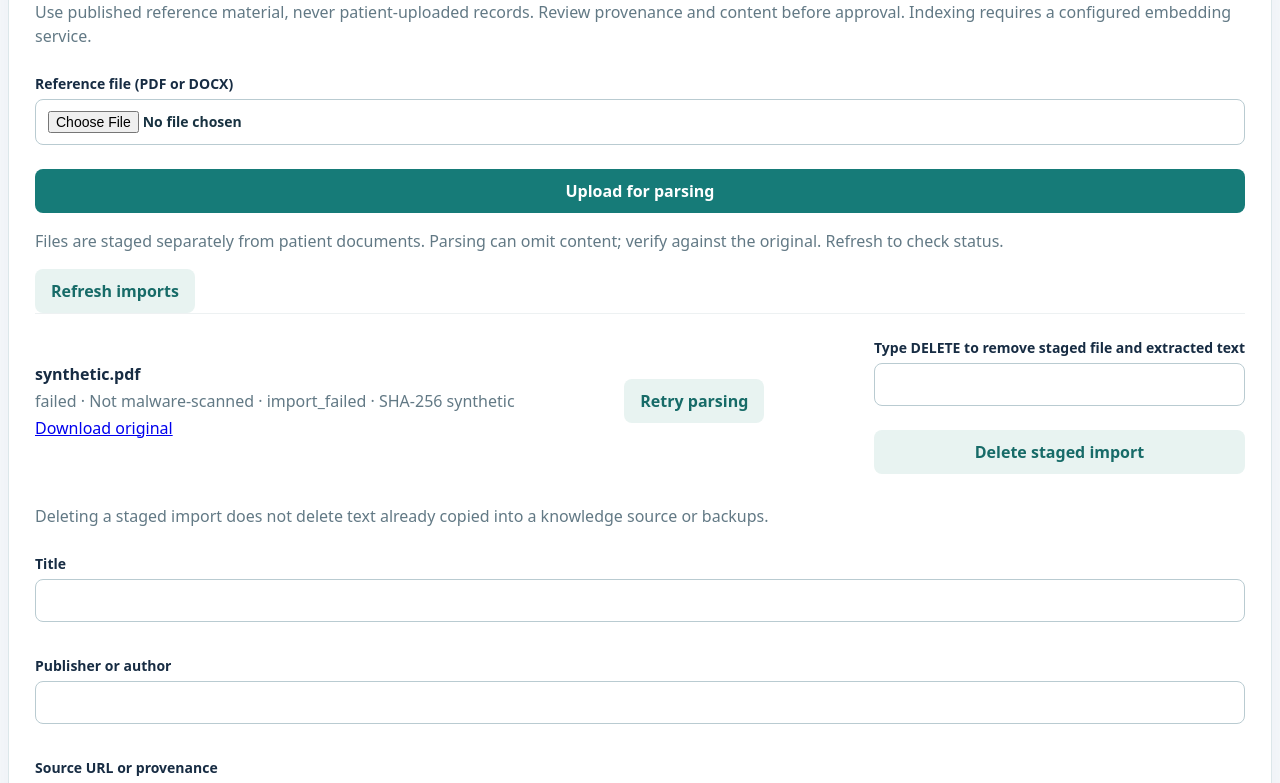
Test: retries a failed staged import and refreshes its status
This screenshot has width=1280, height=783.
(page scrolled)
Click the button "Retry parsing" at [694, 400], box [624,378,764,422]
(page scrolled)
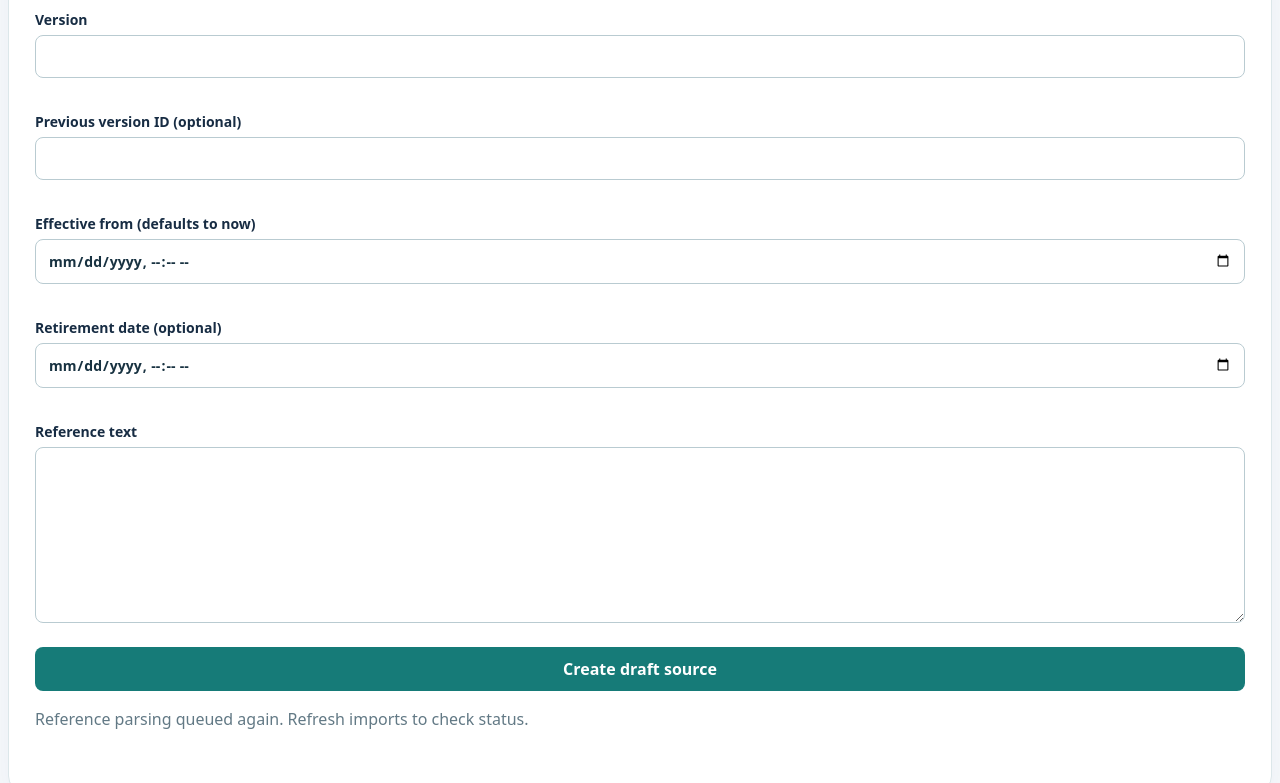
Now the text "Reference parsing queued again. Refresh imports to check status." is shown, box [35,708,528,730]
Now the button "Retry parsing" is gone
